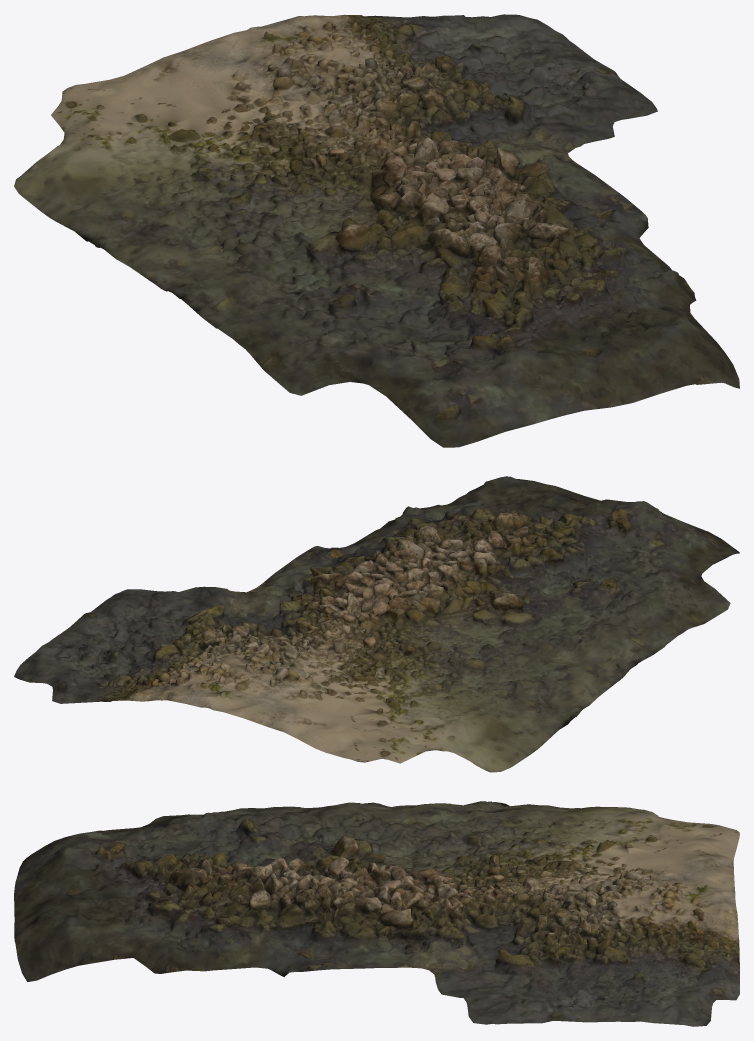
File: coast_rocks_03.glb
3 renders of one model, top to bottom at view 1: azimuth 30°, elevation 25°; view 2: azimuth 150°, elevation 25°; view 3: azimuth 270°, elevation 25°, orthographic. The views are drawn at different scales.
Visible parts, largest first — view 1: coast_rocks_03; view 2: coast_rocks_03; view 3: coast_rocks_03.
Boxes of the visible parts, x1=… form: coast_rocks_03: x1=14, y1=14, x2=739, y2=447; coast_rocks_03: x1=14, y1=476, x2=739, y2=772; coast_rocks_03: x1=14, y1=801, x2=739, y2=1026.
Bounding box in the file's own units: 21.12 × 3.2 × 28.27.
Materials: 1 (1 with a texture image).
